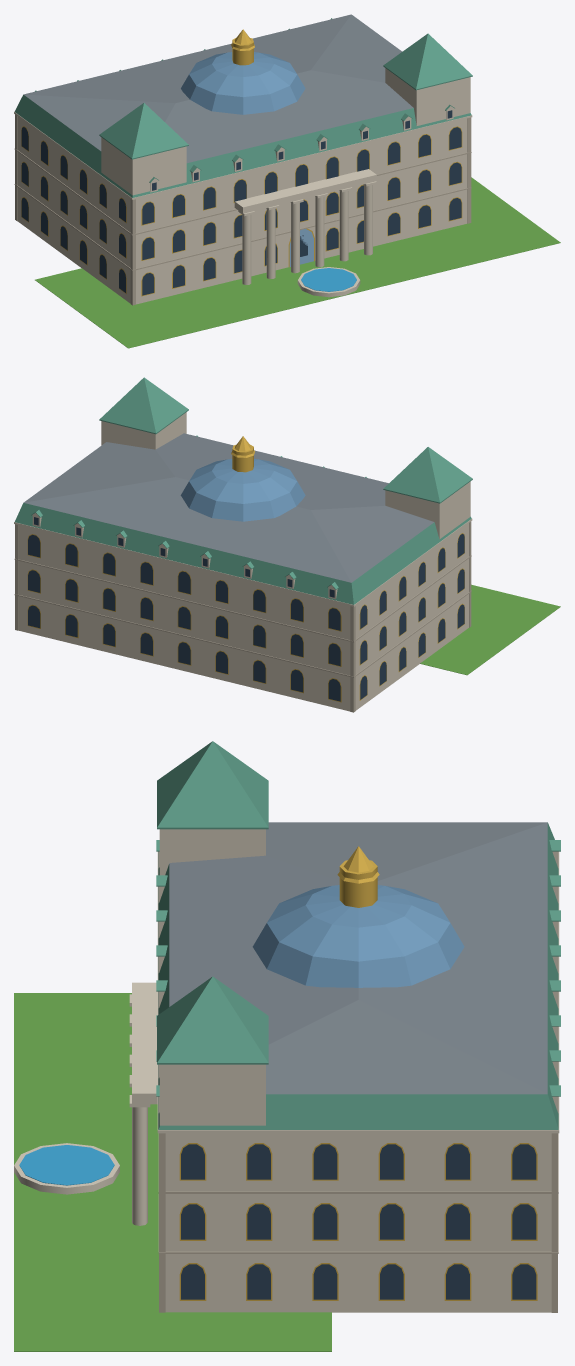
The model's file is casino.glb.
3 renders of one model, top to bottom at view 1: azimuth 30°, elevation 25°; view 2: azimuth 150°, elevation 25°; view 3: azimuth 270°, elevation 25°, orthographic. The views are drawn at different scales.
Visible parts, largest first — view 1: casino; view 2: casino; view 3: casino.
Part boxes in pixels (x1,y1,x2,y2): casino: (14, 14, 560, 348); casino: (14, 377, 560, 712); casino: (14, 741, 560, 1351).
Bounding box in the file's own units: 64 × 27.2 × 41.27.
Materials: 1 (1 with a texture image).
